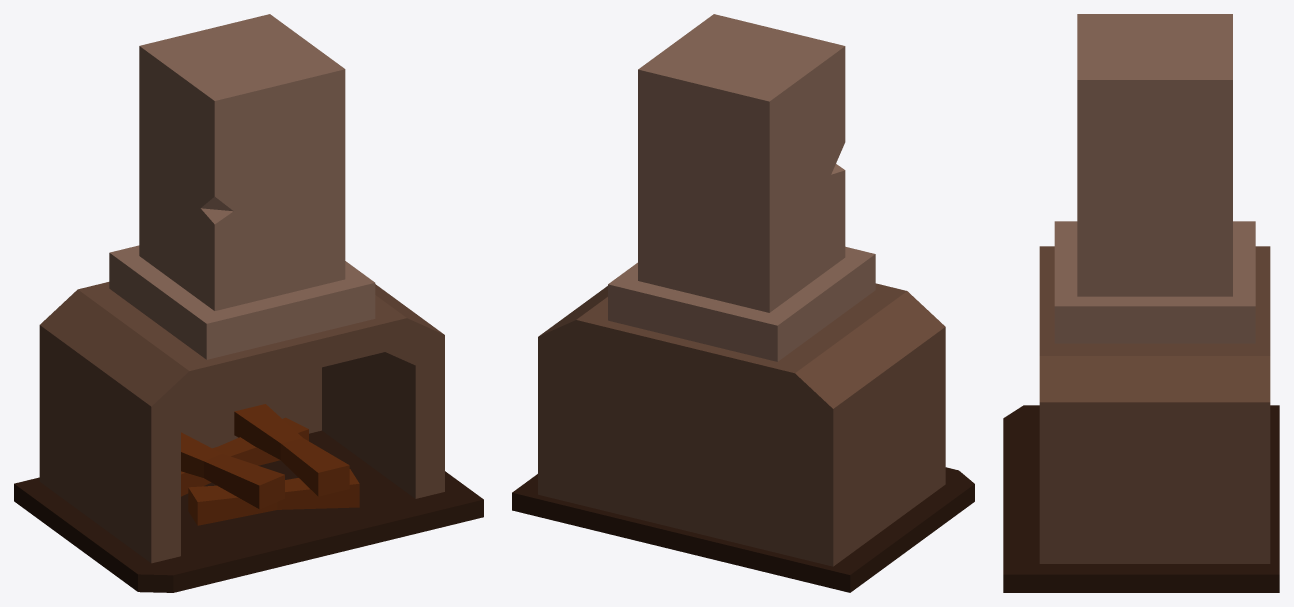
File: Fireplace 01.FBX
The picture shows the model from 3 angles, left to right: view 1: azimuth 30°, elevation 25°; view 2: azimuth 150°, elevation 25°; view 3: azimuth 270°, elevation 25°; orthographic projection. The views are drawn at different scales.
Visible parts, largest first — view 1: Fireplace 01; view 2: Fireplace 01; view 3: Fireplace 01.
Boxes of the visible parts, box(x1,y1,x2,y2) form: Fireplace 01: box(14, 14, 483, 592); Fireplace 01: box(512, 14, 974, 592); Fireplace 01: box(1003, 14, 1279, 592).
Size of the model in its own units: 197 by 250 by 136.
